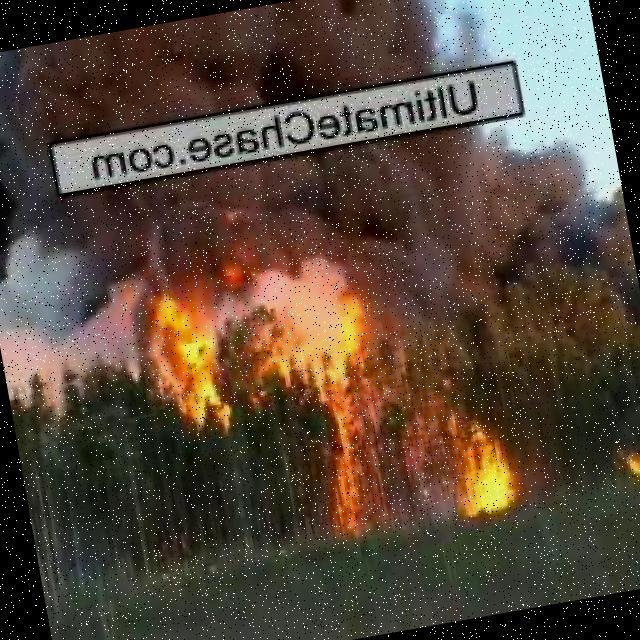Fire: (289, 307, 401, 548), (137, 282, 233, 430), (440, 426, 520, 525), (617, 444, 640, 479)
